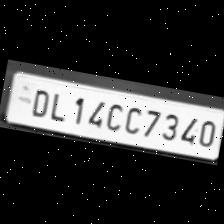0: (194, 115, 218, 148)
1: (63, 90, 87, 125)
3: (156, 109, 181, 143)
4: (82, 94, 108, 128), (176, 110, 199, 144)
7: (138, 104, 162, 139)
C: (120, 101, 144, 136), (102, 98, 125, 132)
D: (25, 83, 51, 117)
L: (45, 87, 69, 122)
